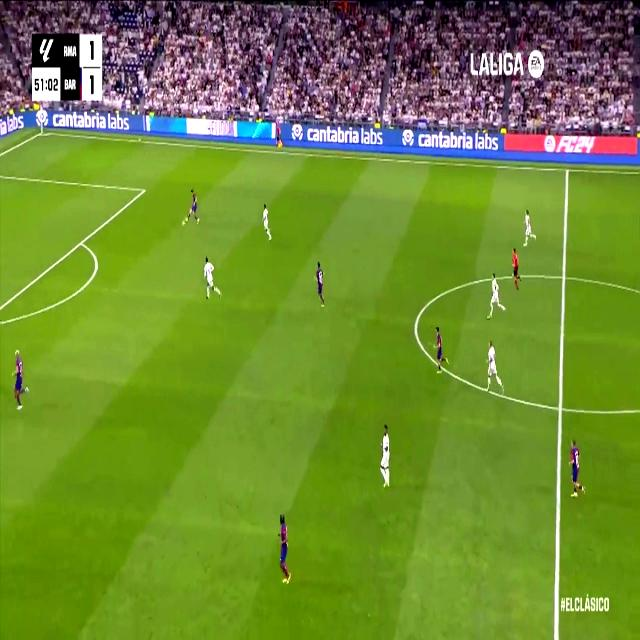bigarea_top_inner: (140, 183, 146, 197)
corner: (38, 127, 46, 137)
halfcircle_bottom: (554, 390, 567, 424)
halfcircle_top: (558, 263, 570, 291)
midline_top_intersection: (563, 162, 571, 178)
top_arc_area_intersection: (77, 233, 85, 250)
